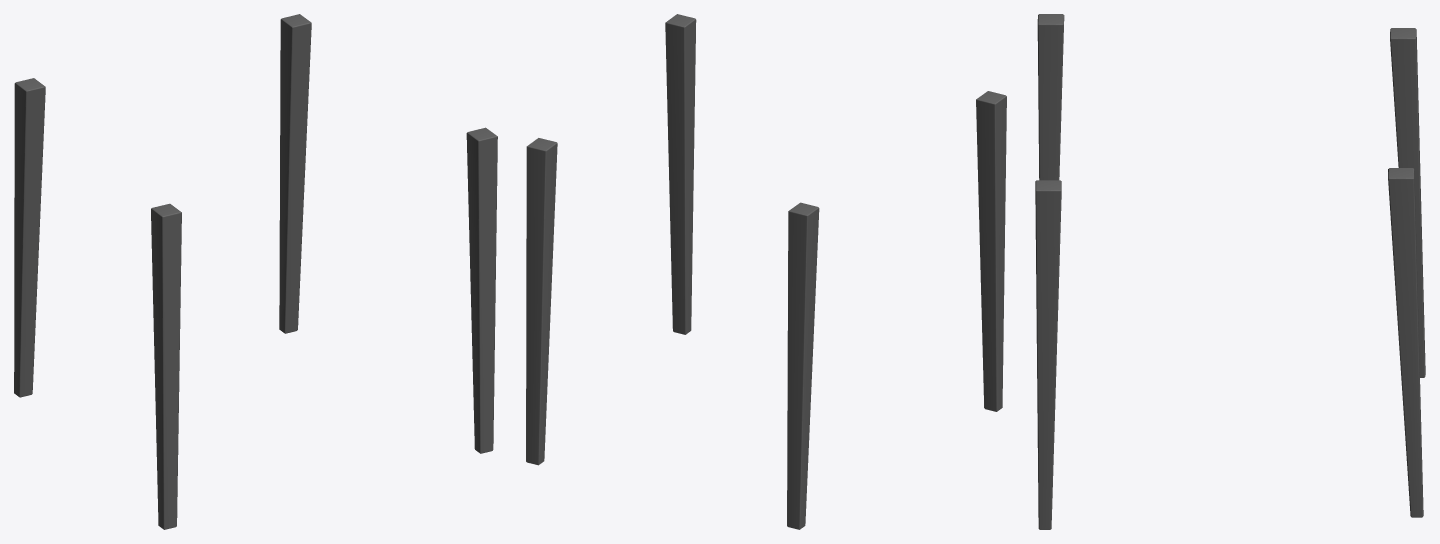
Rendered from RoboTHOR_chair_extendable_robothor_chair_extendable_1.obj.
3 renders of one model, left to right at view 1: azimuth 30°, elevation 25°; view 2: azimuth 150°, elevation 25°; view 3: azimuth 270°, elevation 25°, orthographic. The views are drawn at different scales.
Size of the model in its own units: 0.4842 by 0.4361 by 0.4514.
Materials: 1 (1 with a texture image).
